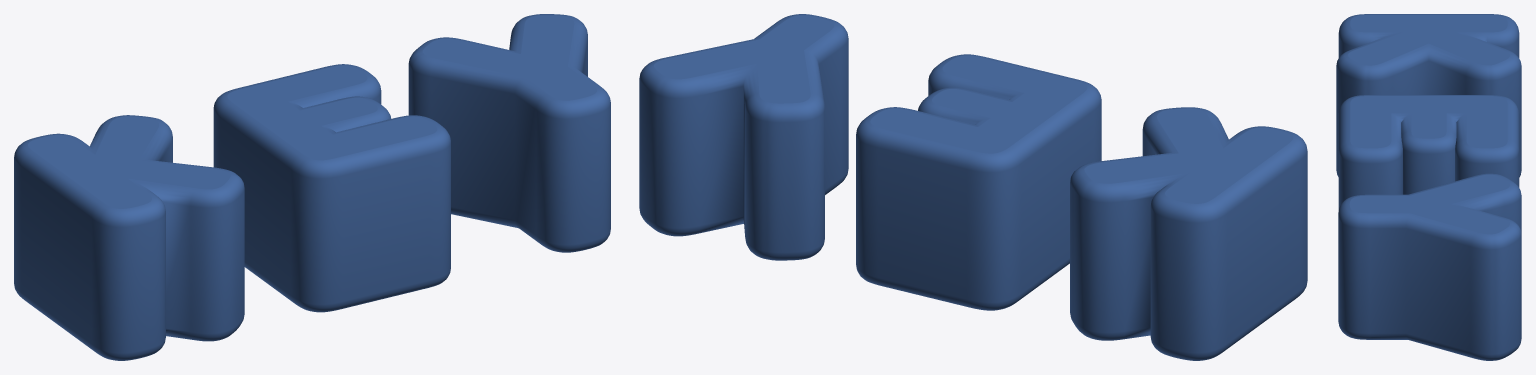
Rendered from Key.fbx.
The picture shows the model from 3 angles, left to right: view 1: azimuth 30°, elevation 25°; view 2: azimuth 150°, elevation 25°; view 3: azimuth 270°, elevation 25°; orthographic projection. The views are drawn at different scales.
Parts seen in each view (by area): view 1: Text.003; view 2: Text.003; view 3: Text.003.
Boxes of the visible parts, x1,y1,x2,y2 form: Text.003: [14, 14, 610, 360]; Text.003: [639, 14, 1307, 360]; Text.003: [1336, 14, 1521, 360].
Bounding box in the file's own units: 141 × 36 × 48.06.
